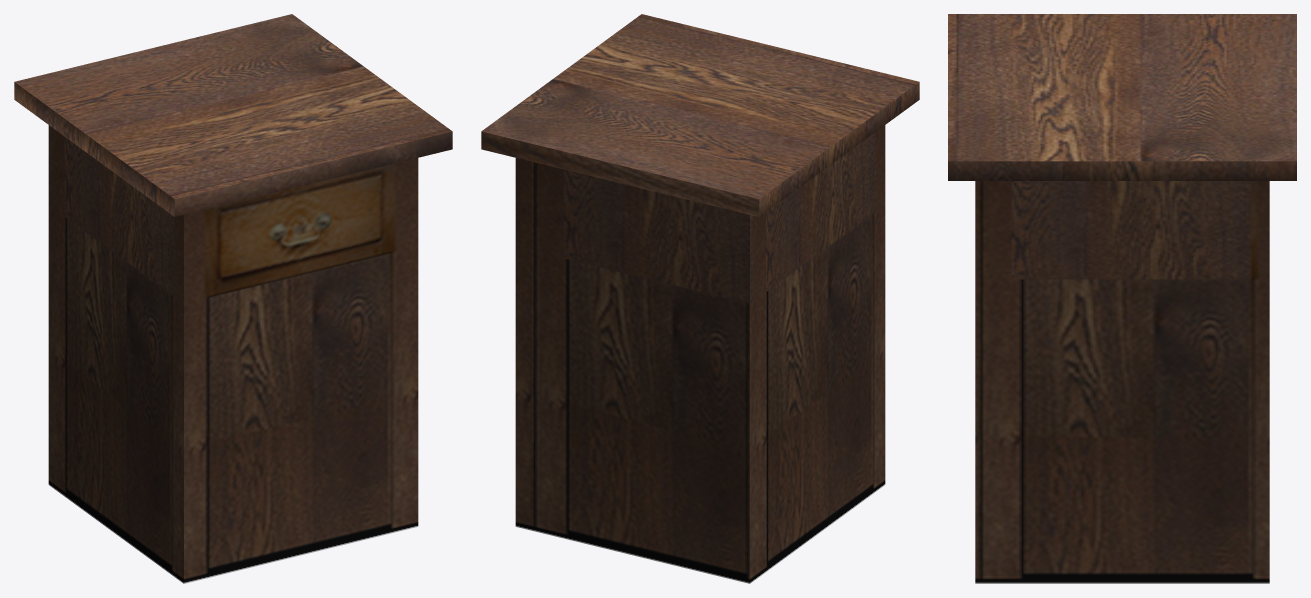
The model's file is Prop_SM_NightTable.fbx.
3 renders of one model, left to right at view 1: azimuth 30°, elevation 25°; view 2: azimuth 150°, elevation 25°; view 3: azimuth 270°, elevation 25°, orthographic. The views are drawn at different scales.
Visible parts, largest first — view 1: pCube2; view 2: pCube2; view 3: pCube2.
Part boxes in pixels (x1,y1,x2,y2): pCube2: [14, 14, 452, 583]; pCube2: [481, 14, 919, 583]; pCube2: [948, 14, 1296, 583].
Size of the model in its own units: 1.19 by 1.63 by 1.19.
